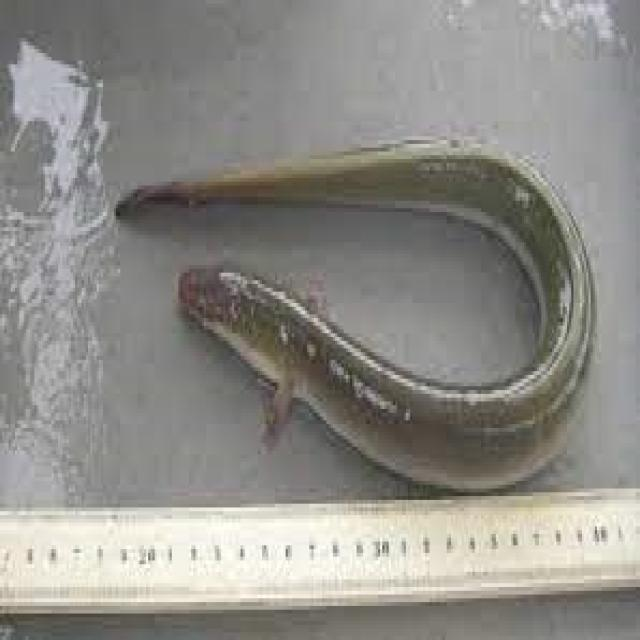Freshwater-Eel: (80, 57, 622, 489)
